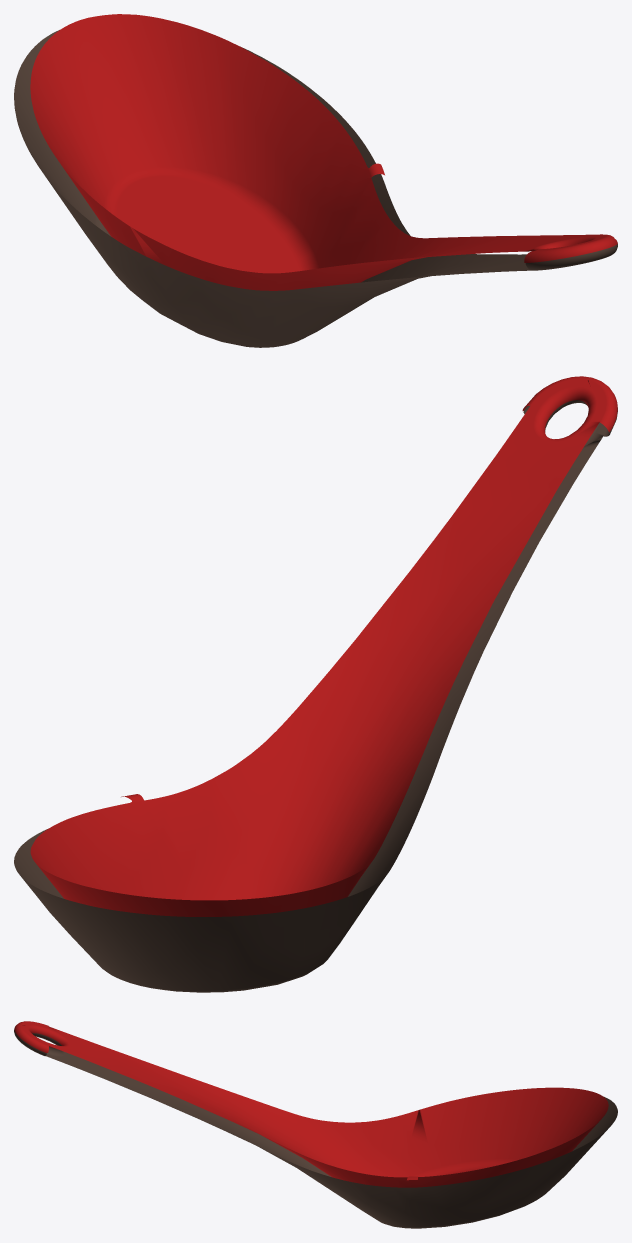
The picture shows the model from 3 angles, top to bottom: view 1: azimuth 30°, elevation 25°; view 2: azimuth 150°, elevation 25°; view 3: azimuth 270°, elevation 25°; orthographic projection. The views are drawn at different scales.
Visible parts, largest first — view 1: Asian_Spoon-1, Asian_Spoon; view 2: Asian_Spoon-1, Asian_Spoon; view 3: Asian_Spoon-1, Asian_Spoon.
Part boxes in pixels (box(x1,y1,x2,y2)): Asian_Spoon-1: box(30, 14, 617, 290); Asian_Spoon: box(14, 30, 617, 347); Asian_Spoon-1: box(30, 376, 617, 916); Asian_Spoon: box(14, 400, 617, 992); Asian_Spoon-1: box(14, 1021, 608, 1187); Asian_Spoon: box(14, 1029, 617, 1228).
Size of the model in its own units: 0.253 by 0.2719 by 0.7768.
